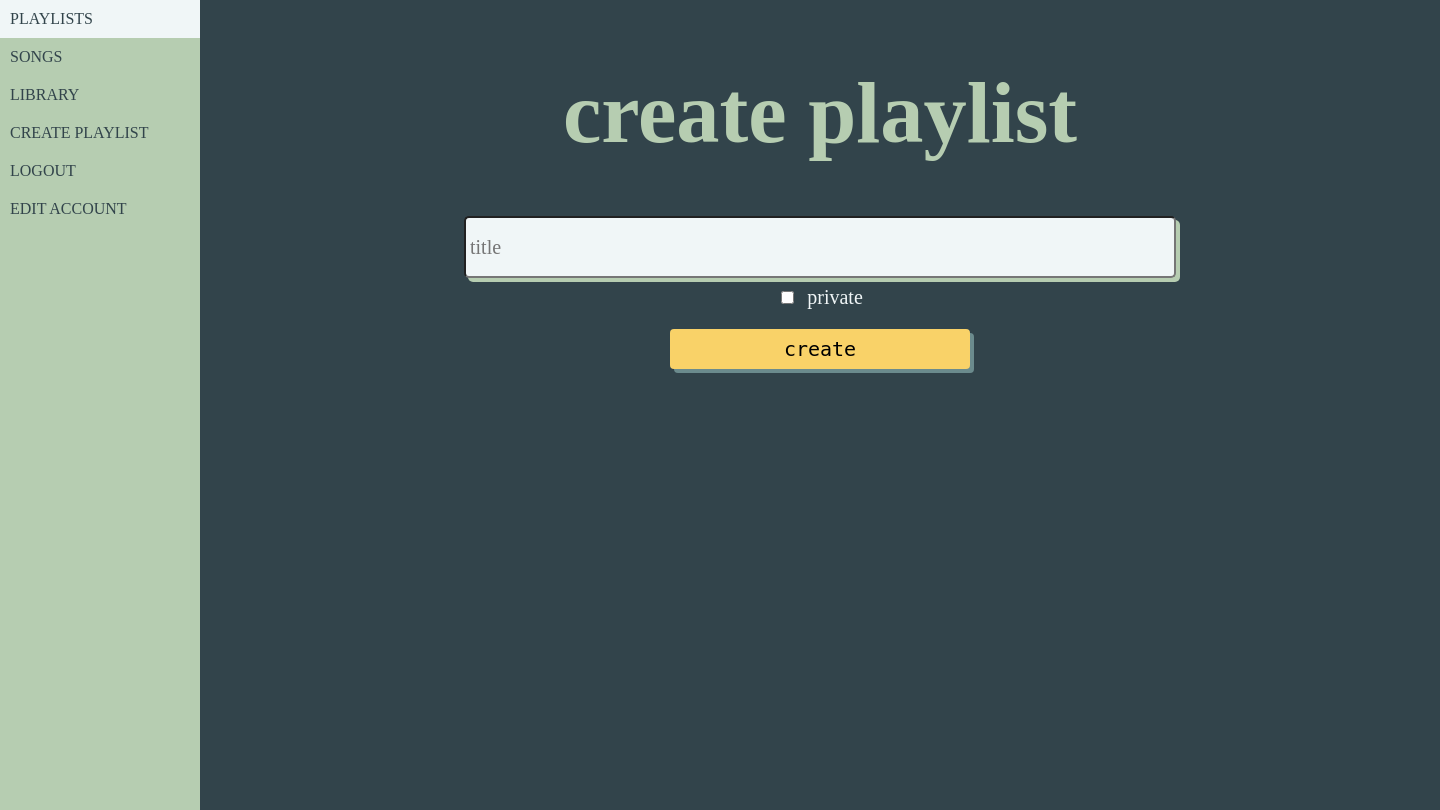
Test: tests create with error with throwing
Type "query" into the field with placeholder "title" at (820, 247), box [464,216,1176,278]
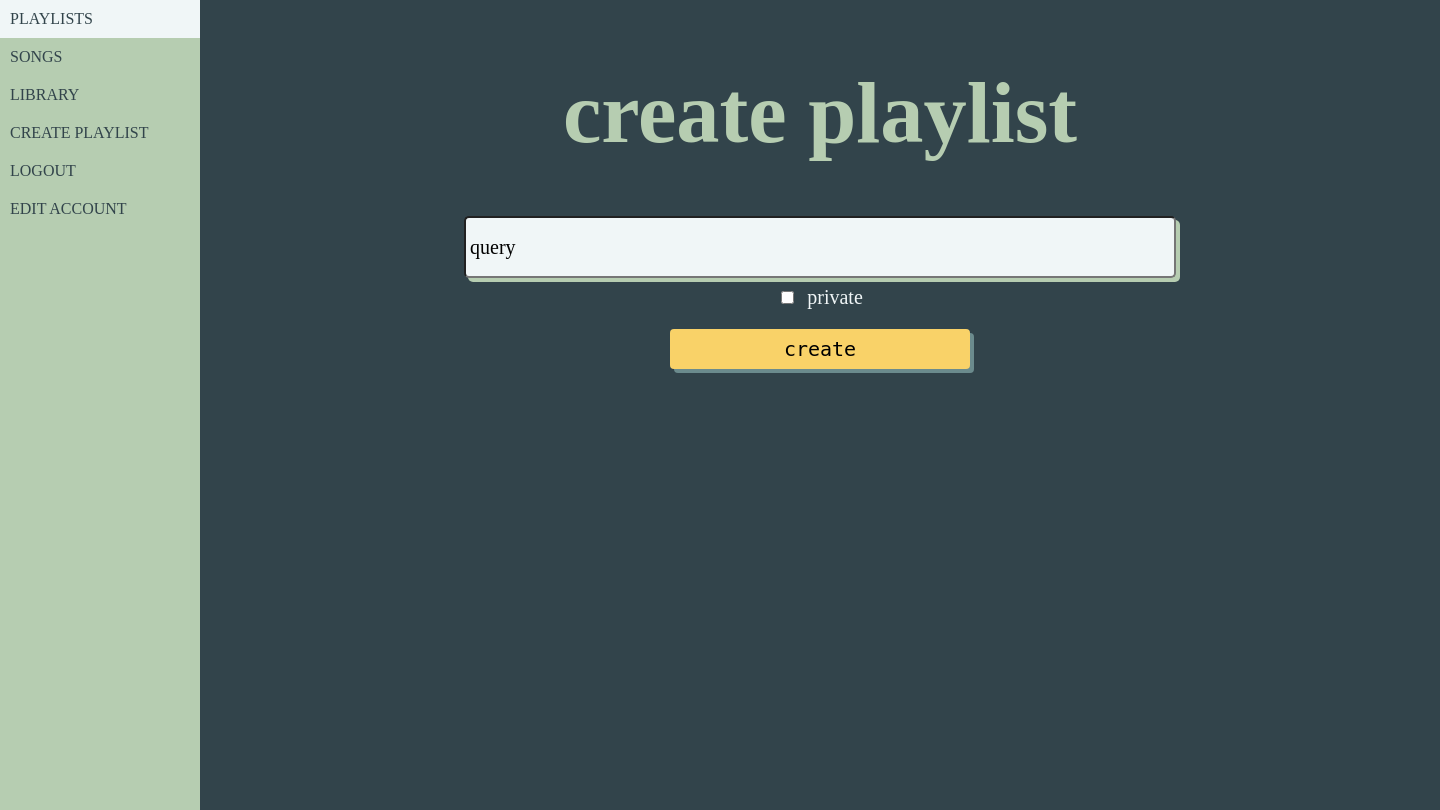
Click the button at (820, 349), box [670,329,970,369]
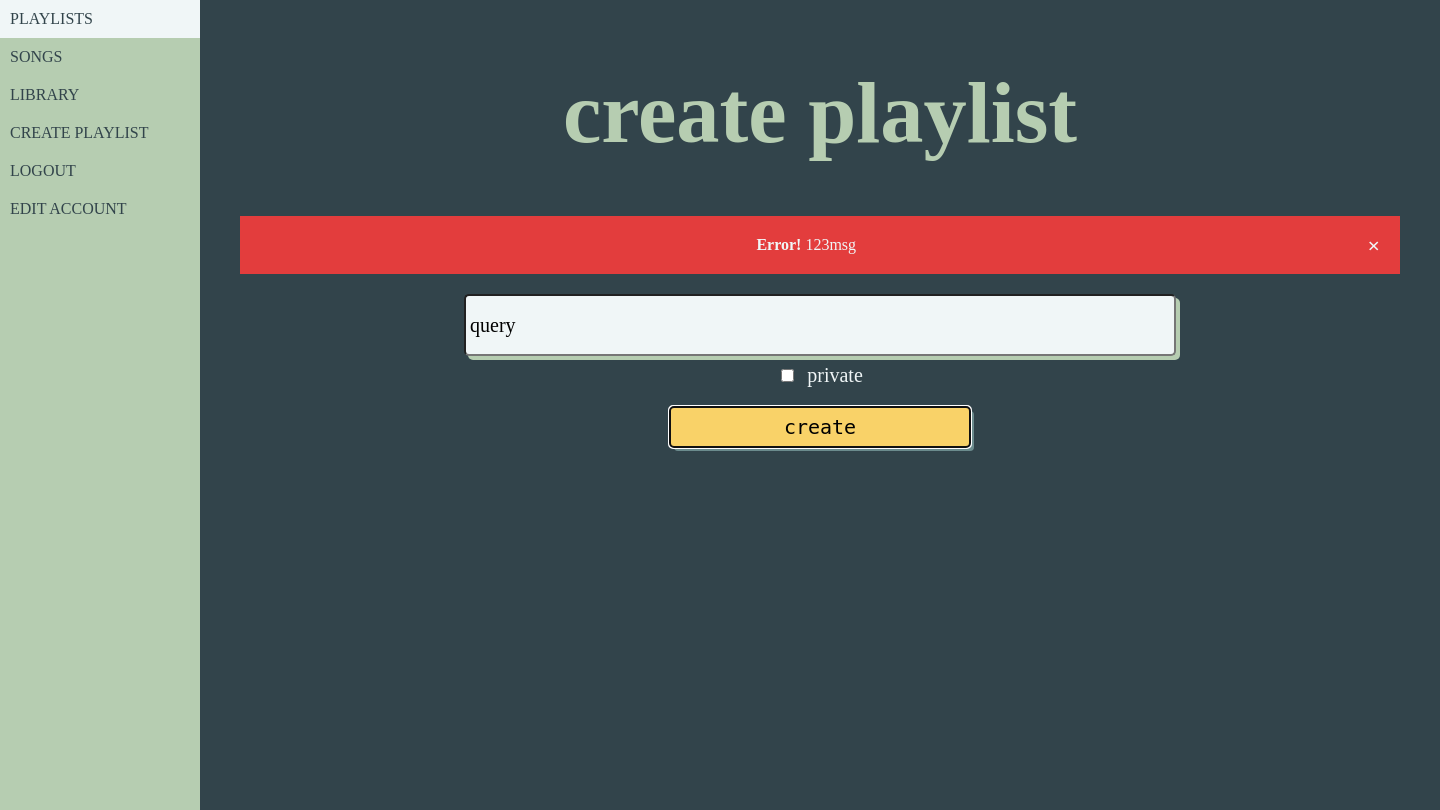
Expected: the text "× Error! 123msg" is shown, [240,216,1400,274]
